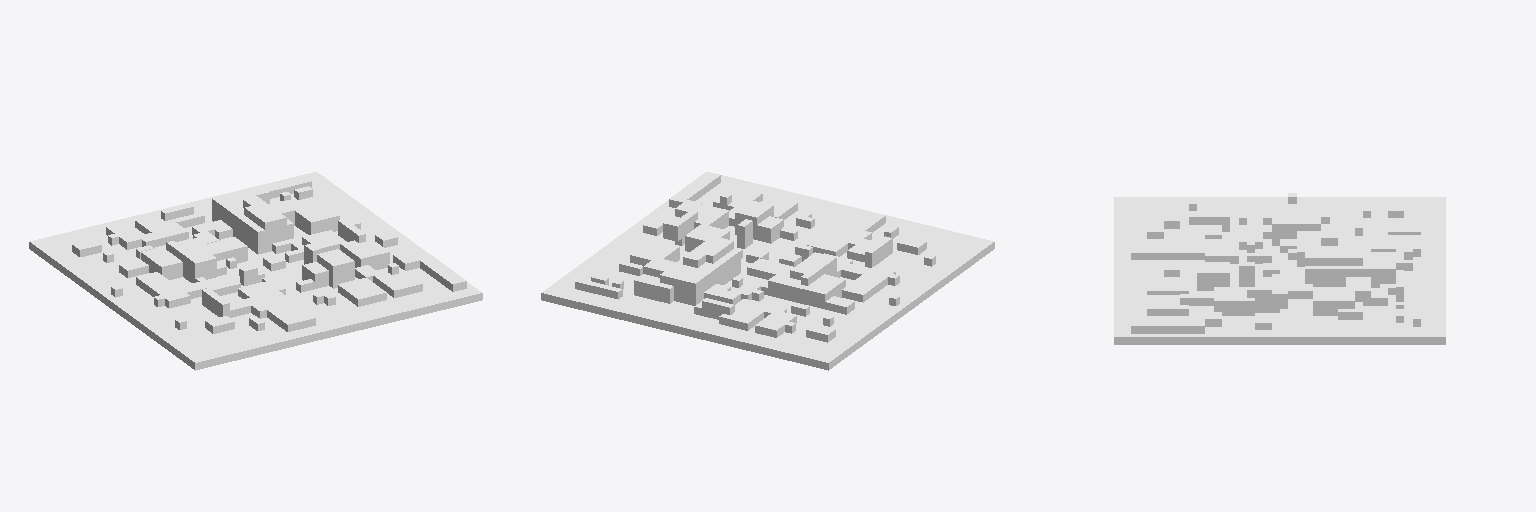
Rendered from place2.obj.
The picture shows the model from 3 angles: view 1: azimuth 30°, elevation 25°; view 2: azimuth 150°, elevation 25°; view 3: azimuth 270°, elevation 25°; orthographic projection.
Parts seen in each view (by area): view 1: object 1; view 2: object 1; view 3: object 1.
Boxes of the visible parts, <box> form: object 1: <box>29,172,482,370</box>; object 1: <box>541,172,994,370</box>; object 1: <box>1114,193,1445,344</box>.
Bounding box in the file's own units: 4 × 0.5 × 4.